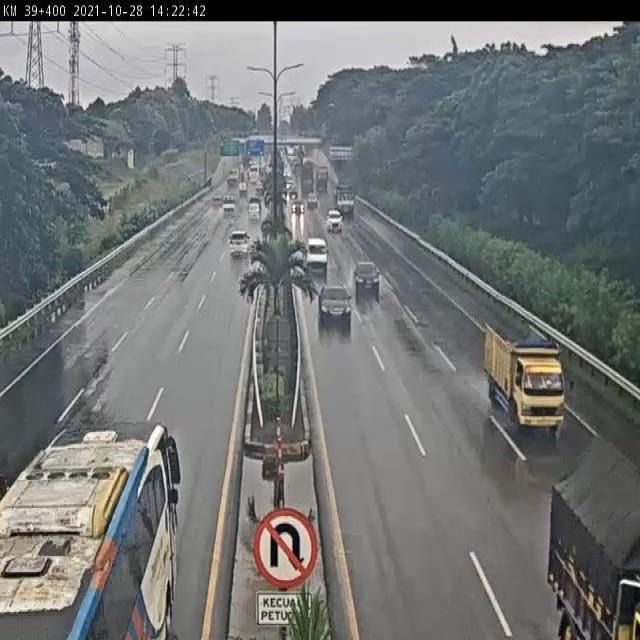bus-l-: (0, 418, 179, 640)
truck-s-: (484, 320, 565, 431)
